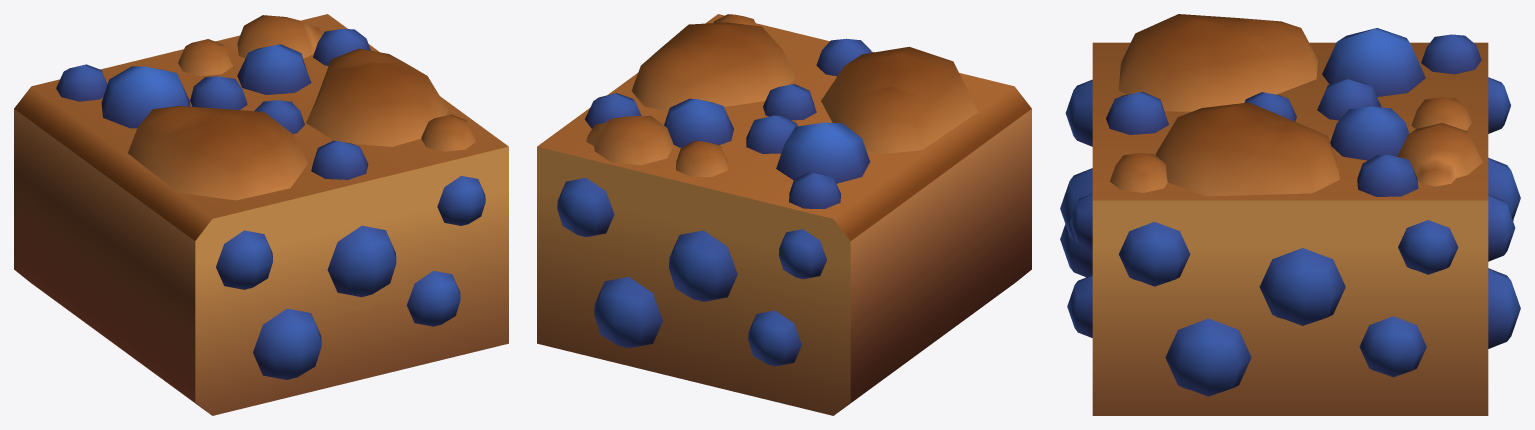
The model's file is m_SheetCake03_Slice02.fbx.
The picture shows the model from 3 angles, left to right: view 1: azimuth 30°, elevation 25°; view 2: azimuth 150°, elevation 25°; view 3: azimuth 270°, elevation 25°; orthographic projection. The views are drawn at different scales.
Visible parts, largest first — view 1: m_SheetCake03_Slice02; view 2: m_SheetCake03_Slice02; view 3: m_SheetCake03_Slice02.
Boxes of the visible parts, <box> form: m_SheetCake03_Slice02: <box>14,14,508,415</box>; m_SheetCake03_Slice02: <box>537,14,1031,415</box>; m_SheetCake03_Slice02: <box>1060,14,1520,415</box>.
Bounding box in the file's own units: 10.82 × 7.57 × 11.65.
